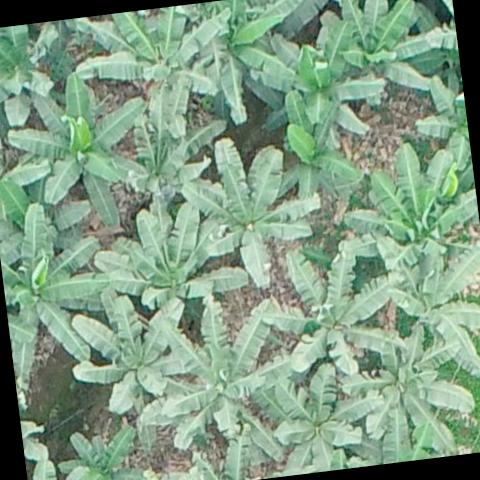Banana-plant: (132, 299, 300, 452), (177, 130, 328, 296), (6, 73, 150, 236), (74, 0, 238, 142), (338, 137, 480, 285), (258, 240, 401, 379), (340, 322, 478, 466), (0, 200, 116, 367), (253, 17, 388, 154), (92, 195, 250, 311), (70, 286, 198, 410), (265, 359, 388, 477), (385, 234, 480, 385), (128, 112, 236, 230), (208, 0, 315, 119), (336, 0, 450, 99), (274, 107, 362, 202), (0, 21, 60, 127), (58, 423, 139, 480)
